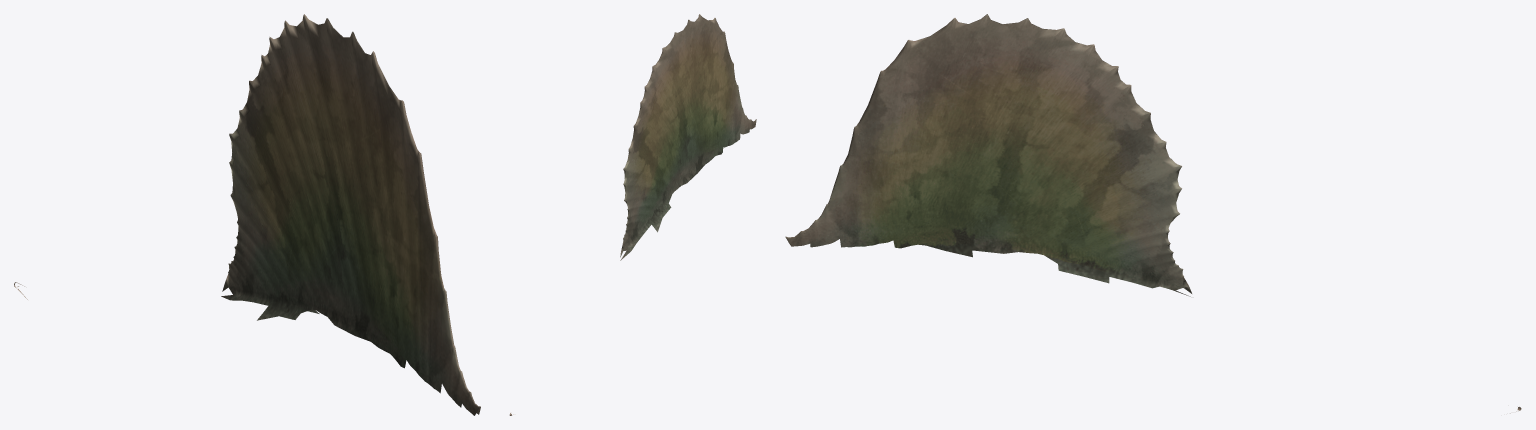
3 views of the same model, side by side, from view 1: azimuth 30°, elevation 25°; view 2: azimuth 150°, elevation 25°; view 3: azimuth 270°, elevation 25° (orthographic). The views are drawn at different scales.
Parts seen in each view (by area): view 1: mesh_2; view 2: mesh_2; view 3: mesh_2.
Part boxes in pixels (box(x1,y1,x2,y2)): mesh_2: box(14, 14, 480, 415); mesh_2: box(509, 14, 756, 415); mesh_2: box(785, 14, 1521, 413).
Bounding box in the file's own units: 4.18 × 63.96 × 106.
1 material, 1 textured.
